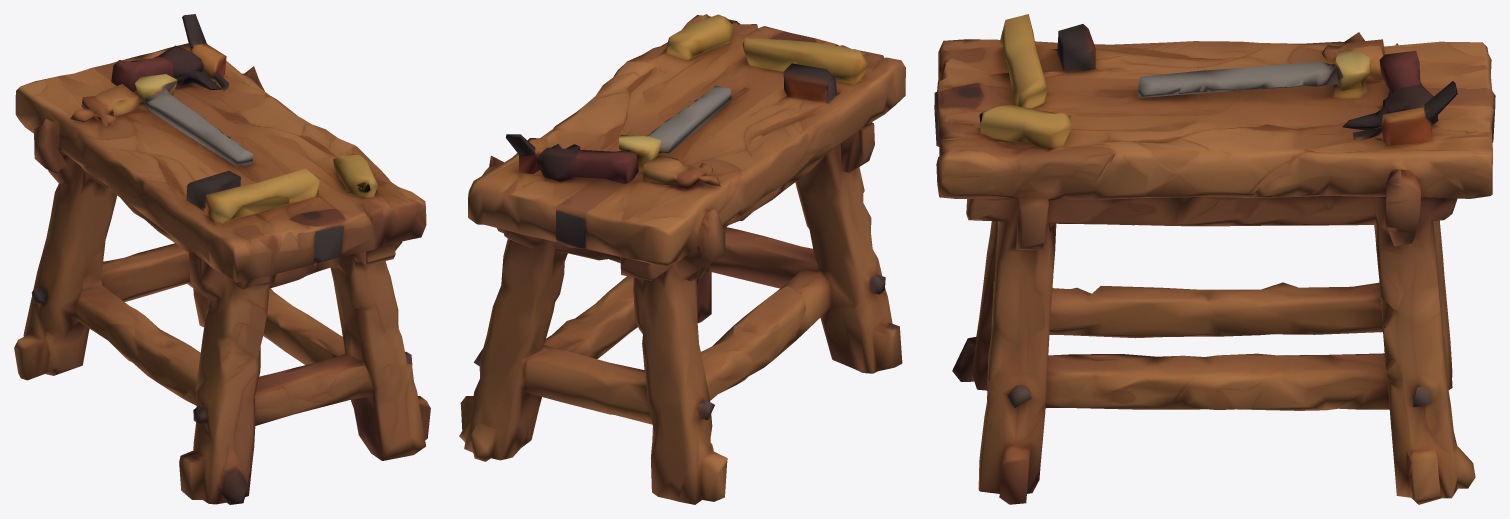
File: workbench.glb
The picture shows the model from 3 angles, left to right: view 1: azimuth 30°, elevation 25°; view 2: azimuth 150°, elevation 25°; view 3: azimuth 270°, elevation 25°; orthographic projection. The views are drawn at different scales.
Visible parts, largest first — view 1: tripo_node_2235bf86-403e-4b2a-9129-ca7dd98e7fe8; view 2: tripo_node_2235bf86-403e-4b2a-9129-ca7dd98e7fe8; view 3: tripo_node_2235bf86-403e-4b2a-9129-ca7dd98e7fe8.
Boxes of the visible parts, x1=… form: tripo_node_2235bf86-403e-4b2a-9129-ca7dd98e7fe8: x1=14, y1=14, x2=430, y2=504; tripo_node_2235bf86-403e-4b2a-9129-ca7dd98e7fe8: x1=459, y1=14, x2=905, y2=504; tripo_node_2235bf86-403e-4b2a-9129-ca7dd98e7fe8: x1=934, y1=14, x2=1495, y2=504.
Bounding box in the file's own units: 0.6298 × 0.7588 × 1.
1 material, 1 textured.
